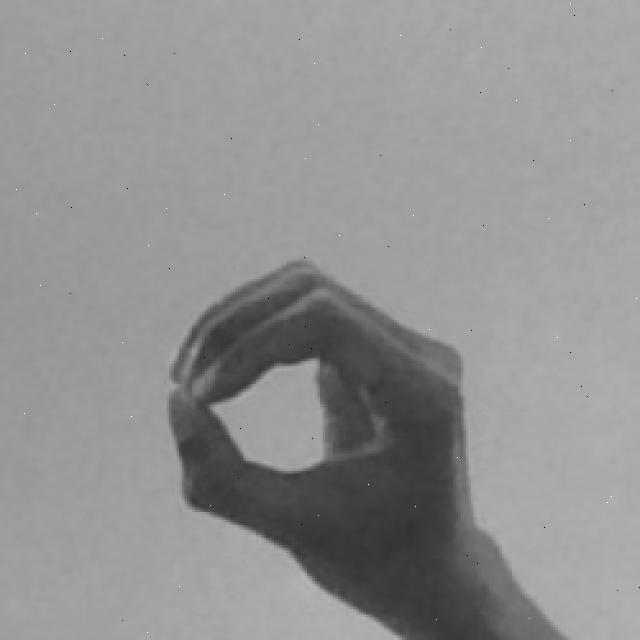O: (158, 250, 572, 640)
